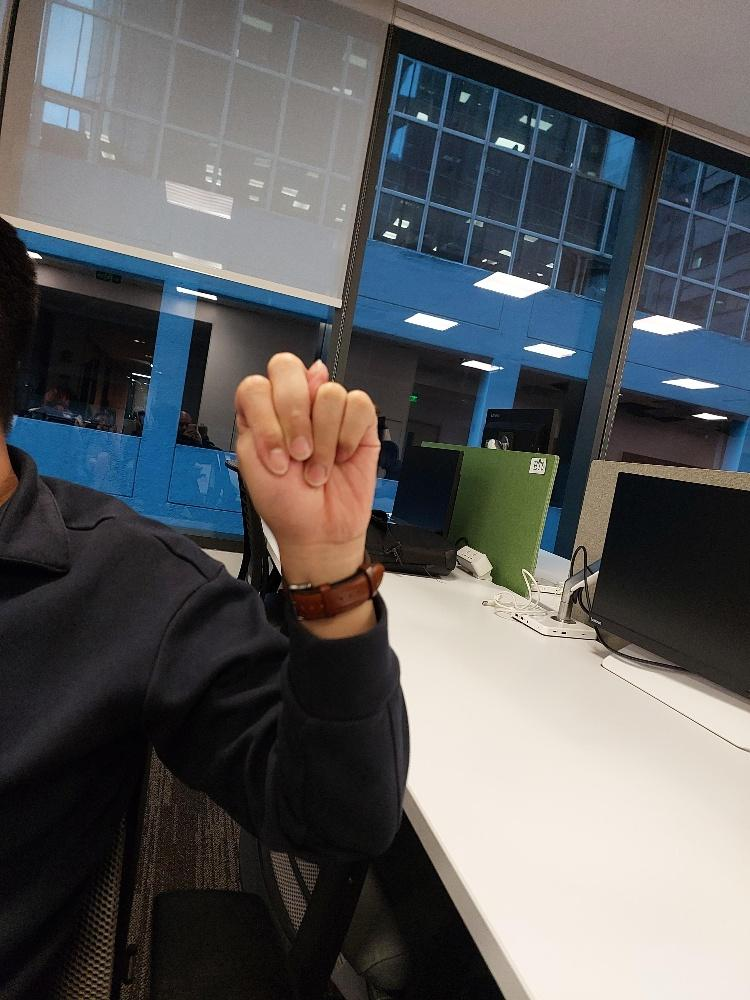n: (233, 351, 381, 523)
